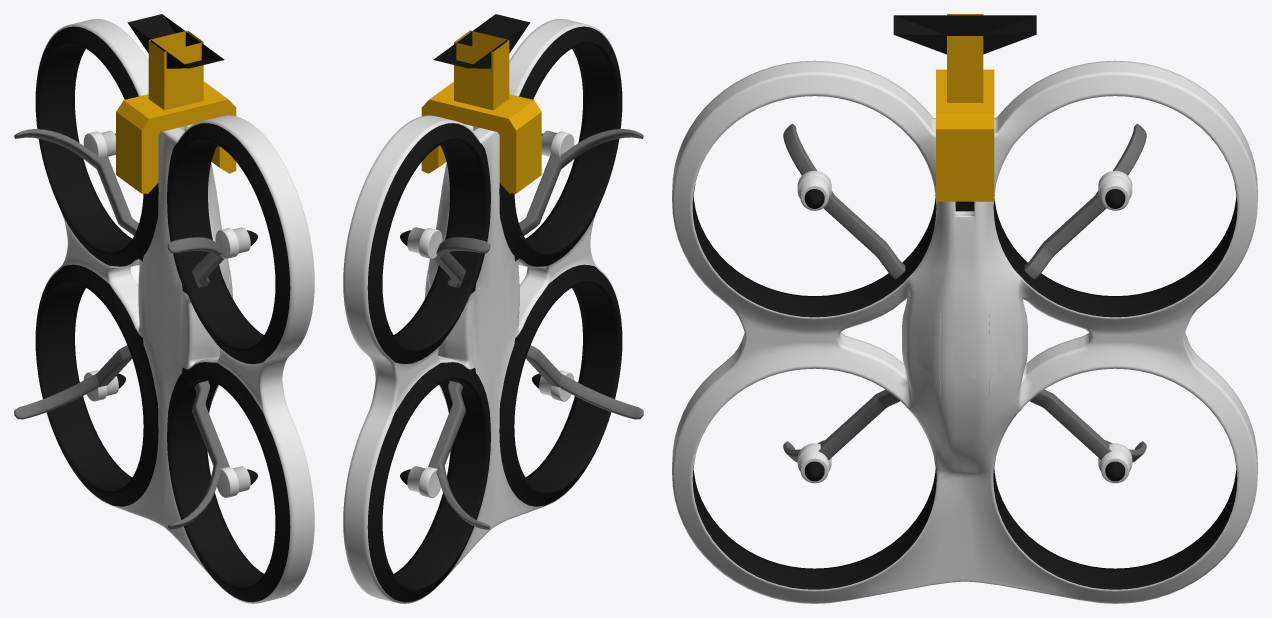
Rendered from DroneLine2.glb.
3 renders of one model, left to right at view 1: azimuth 30°, elevation 25°; view 2: azimuth 150°, elevation 25°; view 3: azimuth 270°, elevation 25°, orthographic. The views are drawn at different scales.
Visible parts, largest first — view 1: PropFL.002, Cube.001; view 2: PropFL.002, Cube.001; view 3: PropFL.002, Cube.001.
Part boxes in pixels (<box>): PropFL.002: <box>14,19,314,603</box>; Cube.001: <box>116,14,236,193</box>; PropFL.002: <box>343,18,643,603</box>; Cube.001: <box>421,14,541,193</box>; PropFL.002: <box>672,60,1257,603</box>; Cube.001: <box>893,14,1036,201</box>.
Bounding box in the file's own units: 0.3475 × 1.26 × 1.16.
